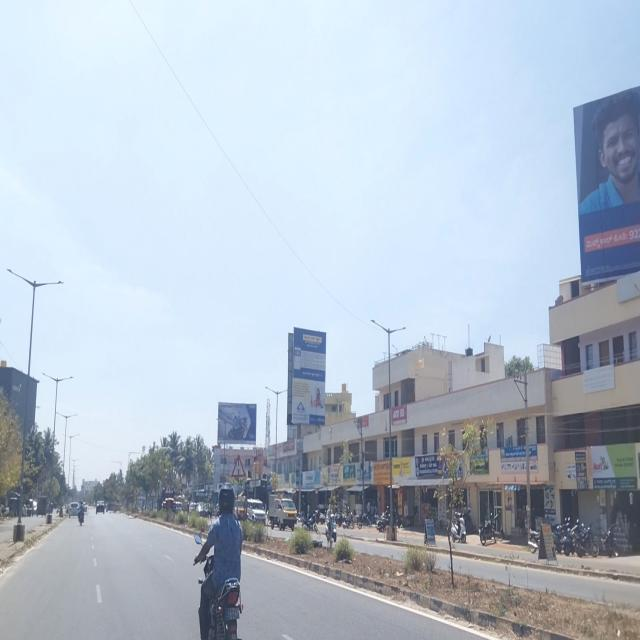bien_cam: (231, 454, 246, 476), (164, 482, 172, 495)
